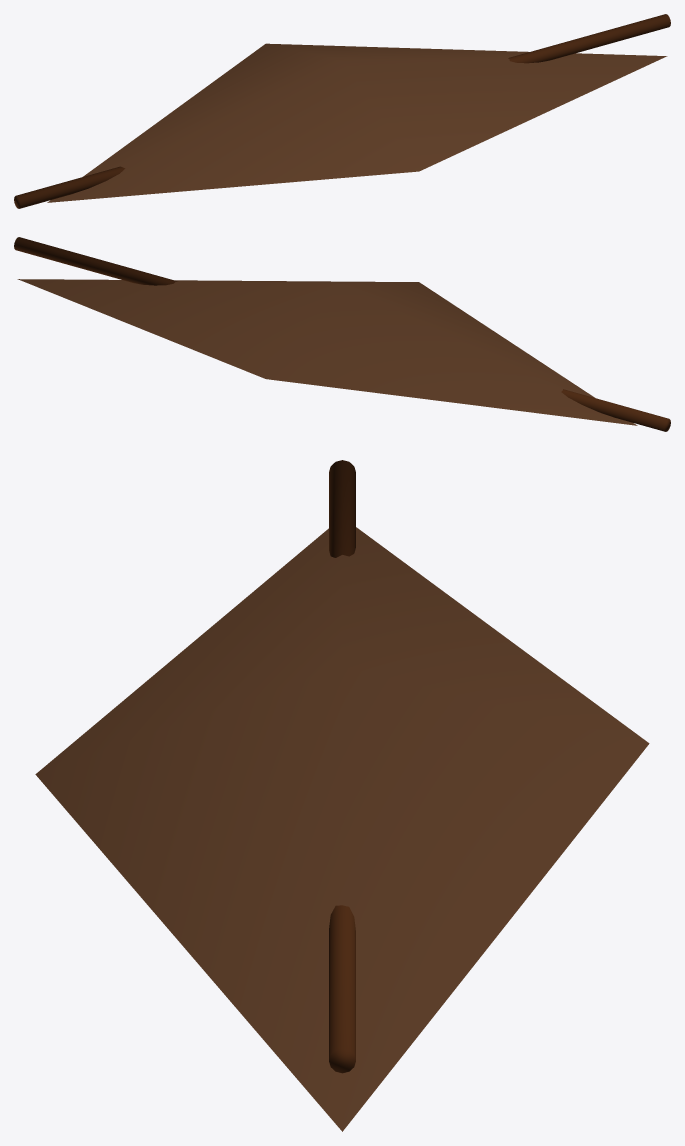
File: CP07-4-leaf.glb
The picture shows the model from 3 angles, top to bottom: view 1: azimuth 30°, elevation 25°; view 2: azimuth 150°, elevation 25°; view 3: azimuth 270°, elevation 25°; orthographic projection. The views are drawn at different scales.
Visible parts, largest first — view 1: CP07-4-leaf; view 2: CP07-4-leaf; view 3: CP07-4-leaf.
Part boxes in pixels (x1,y1,x2,y2): CP07-4-leaf: (14, 14, 670, 208); CP07-4-leaf: (14, 237, 670, 431); CP07-4-leaf: (35, 460, 649, 1131).
Bounding box in the file's own units: 0.4403 × 0.048 × 0.18.
